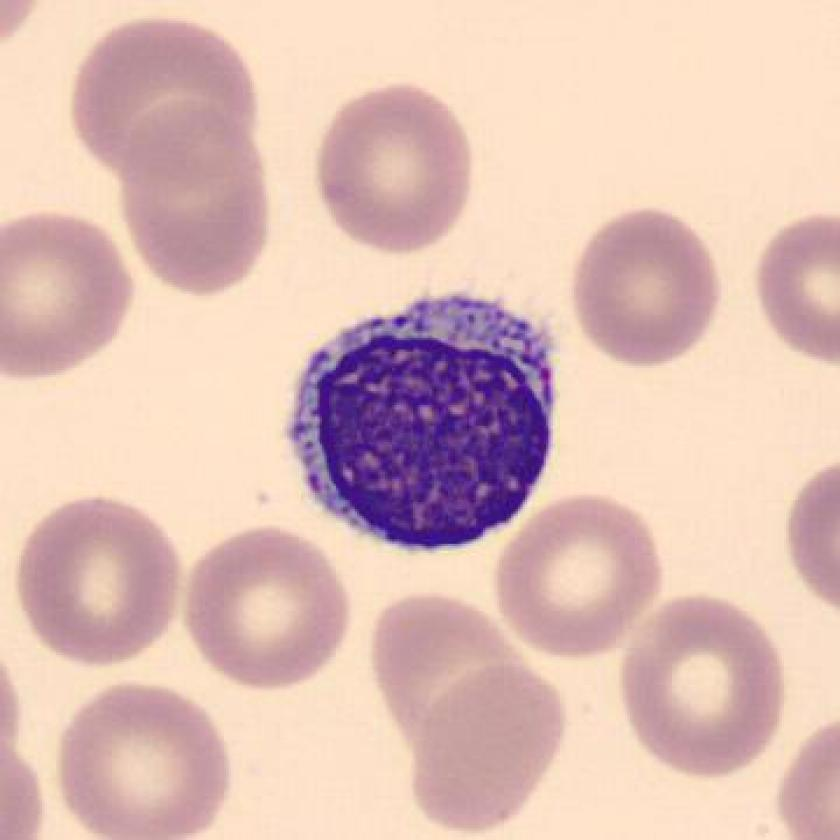lymphocyte: (270, 283, 578, 561)
